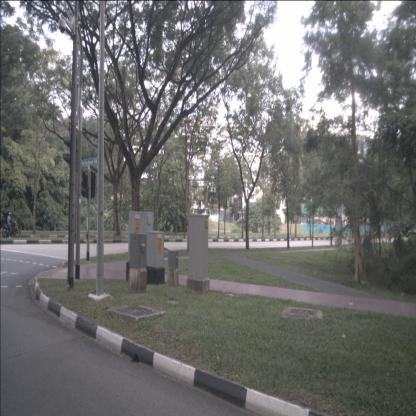vehicle-motorcycle: (1, 211, 21, 239)
